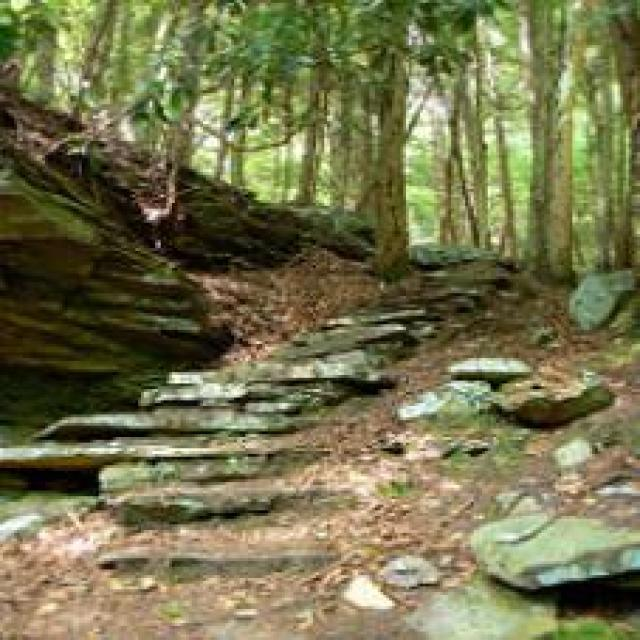stair: (25, 305, 327, 513)
